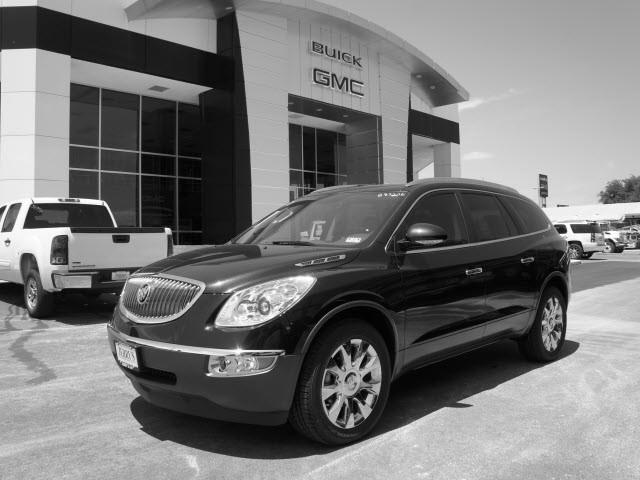car: (105, 180, 575, 449)
